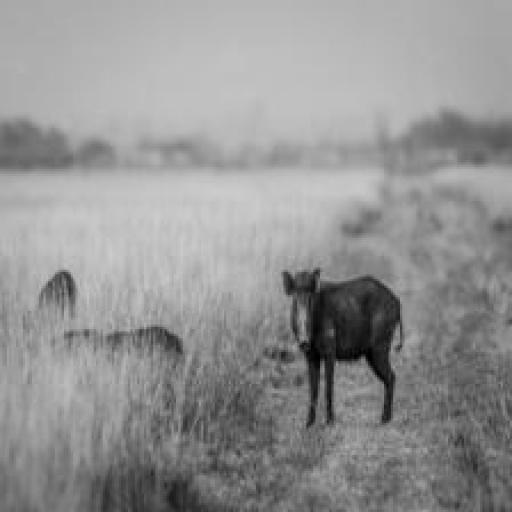Pig: (279, 258, 409, 424)
